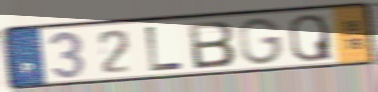2: (97, 28, 133, 75)
3: (46, 28, 87, 80)
B: (186, 19, 238, 71)
G: (236, 16, 286, 67)
L: (143, 24, 186, 73)
Q: (287, 12, 335, 63)
